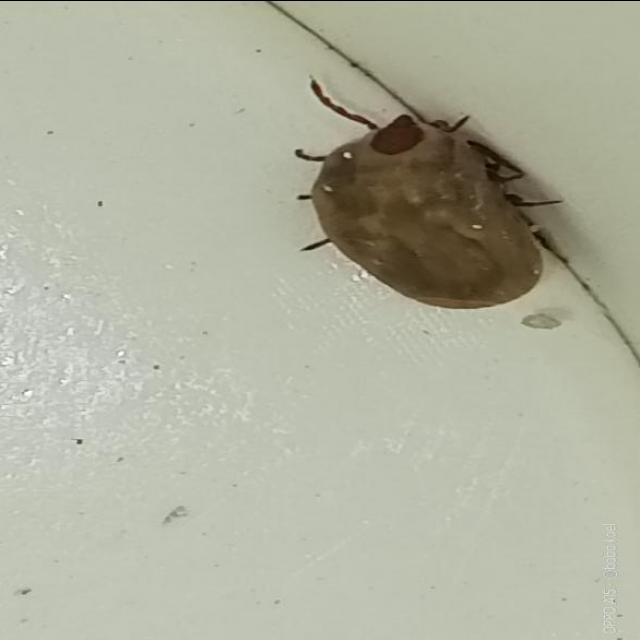Rhipicephalus Sanguineus-F-Fed: (295, 75, 548, 309)
